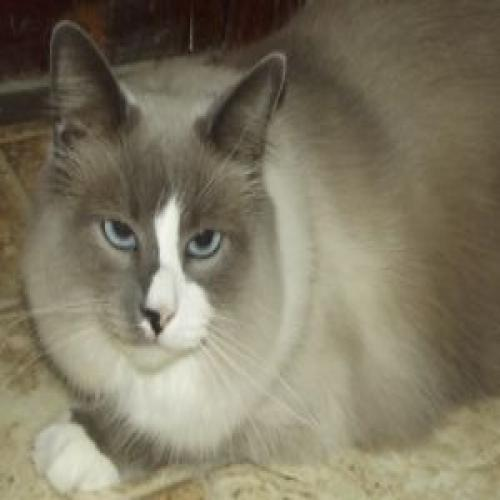ragdoll: (44, 19, 296, 387)
